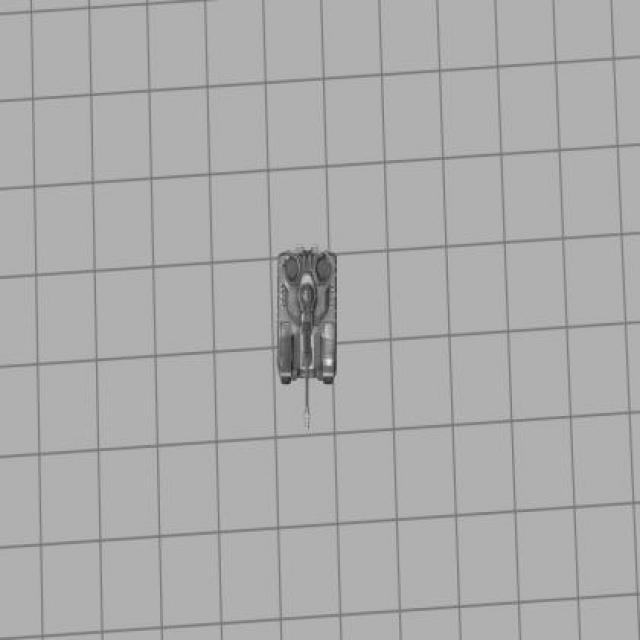tank: (277, 242, 339, 427)
